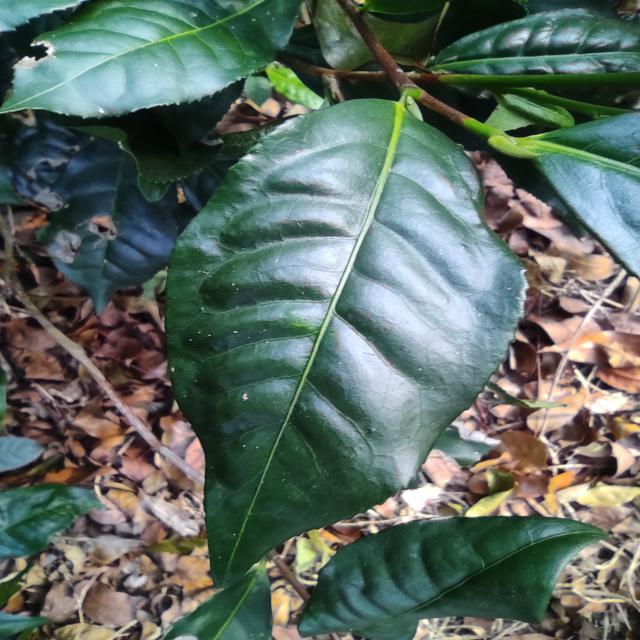Category D(7+ days, Not for Tea): (140, 86, 534, 594)
